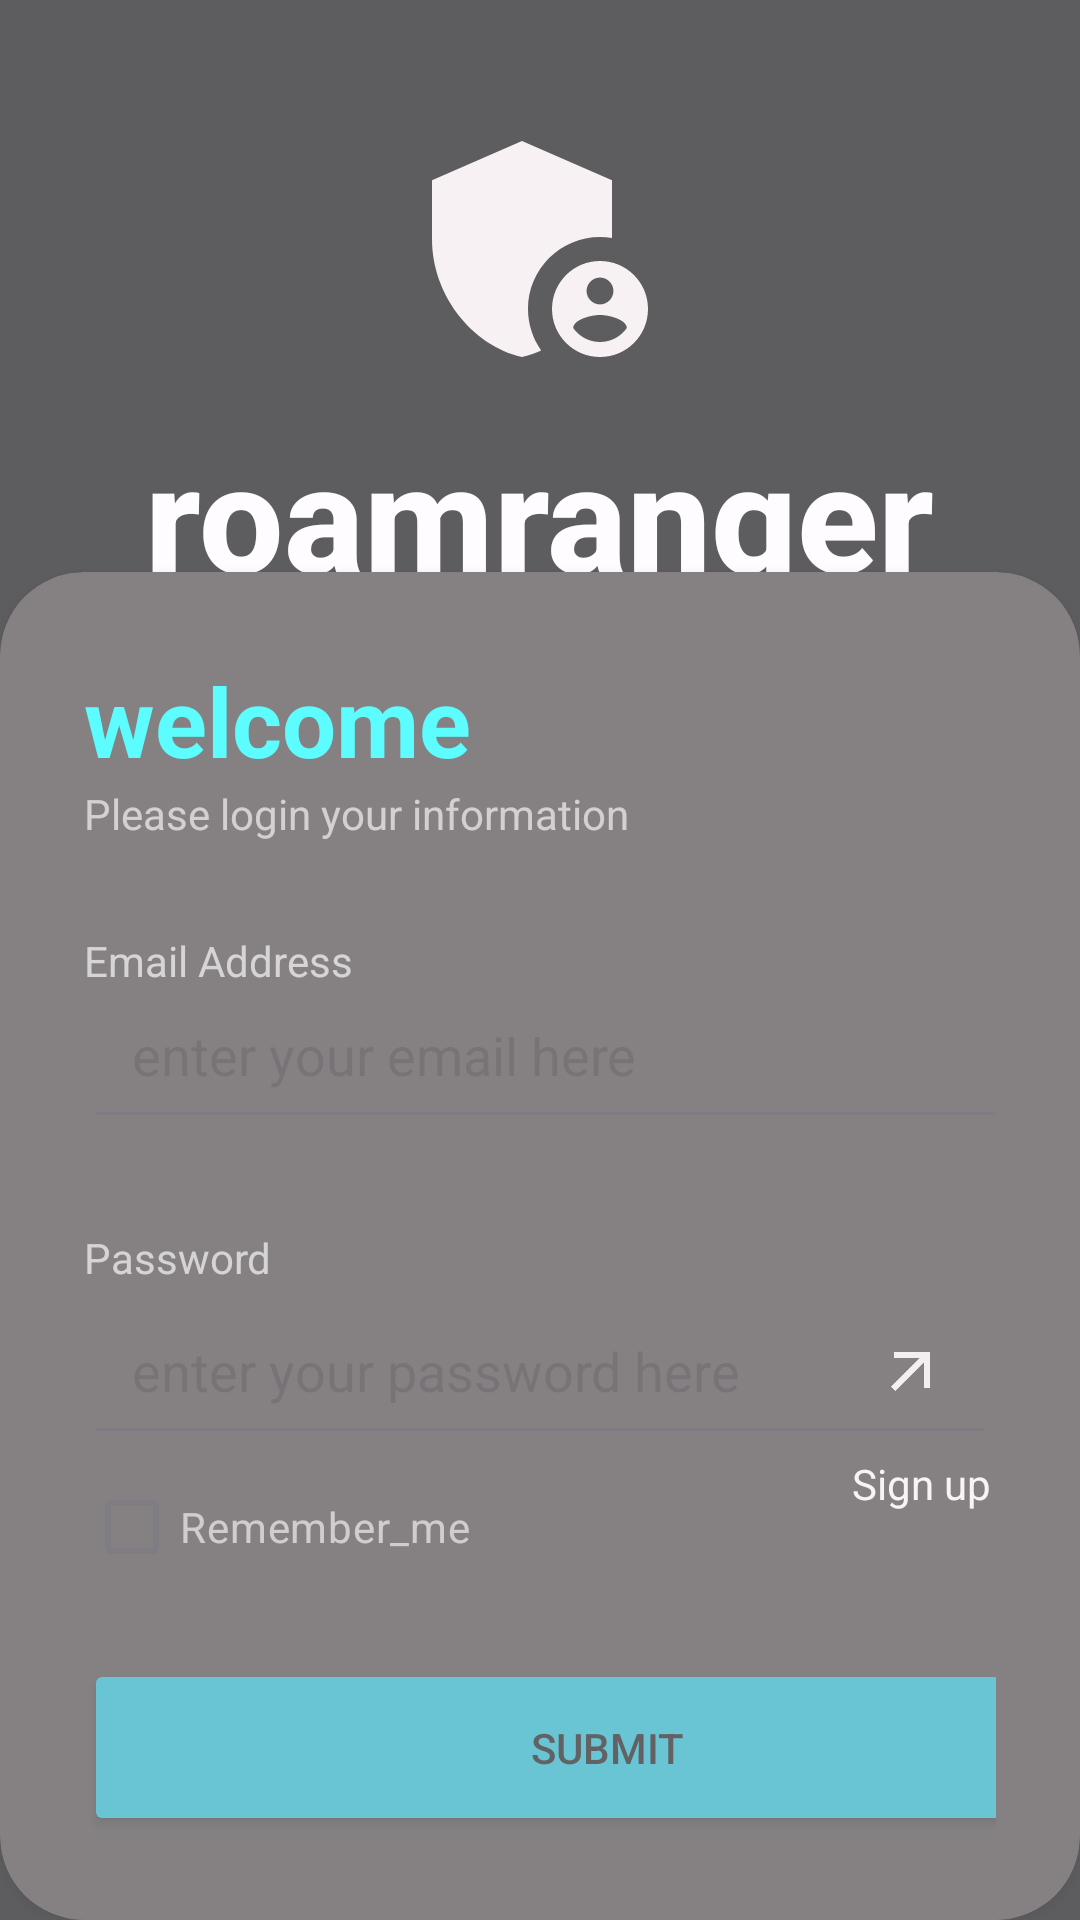

Screen size 1080px x 1920px. Icon name, then its center in pixels as point (x, y):
admin panel settings: point (540, 249)
